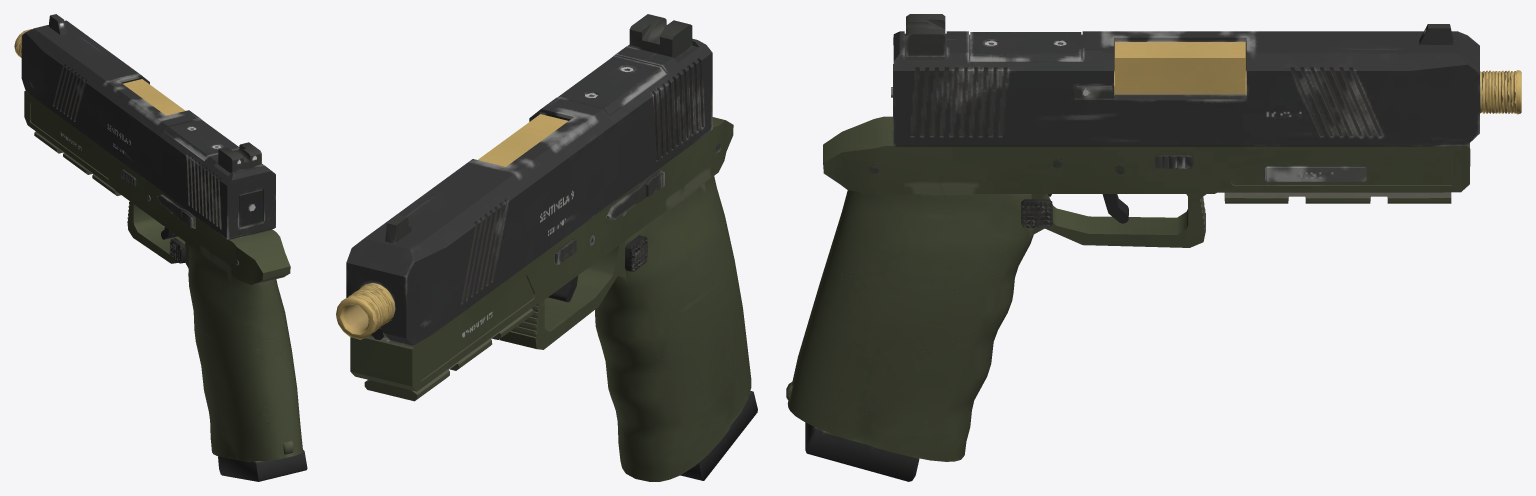
Rendered from pistola_9mm_verde_leve.glb.
The picture shows the model from 3 angles, left to right: view 1: azimuth 30°, elevation 25°; view 2: azimuth 150°, elevation 25°; view 3: azimuth 270°, elevation 25°; orthographic projection. The views are drawn at different scales.
Parts seen in each view (by area): view 1: pistola_9mm_verde_leve; view 2: pistola_9mm_verde_leve; view 3: pistola_9mm_verde_leve.
Part boxes in pixels (x1=…): pistola_9mm_verde_leve: x1=14, y1=14, x2=307, y2=481; pistola_9mm_verde_leve: x1=336, y1=14, x2=757, y2=481; pistola_9mm_verde_leve: x1=786, y1=14, x2=1521, y2=481.
Size of the model in its own units: 0.031 by 0.1545 by 0.2332.
1 material, 1 textured.
